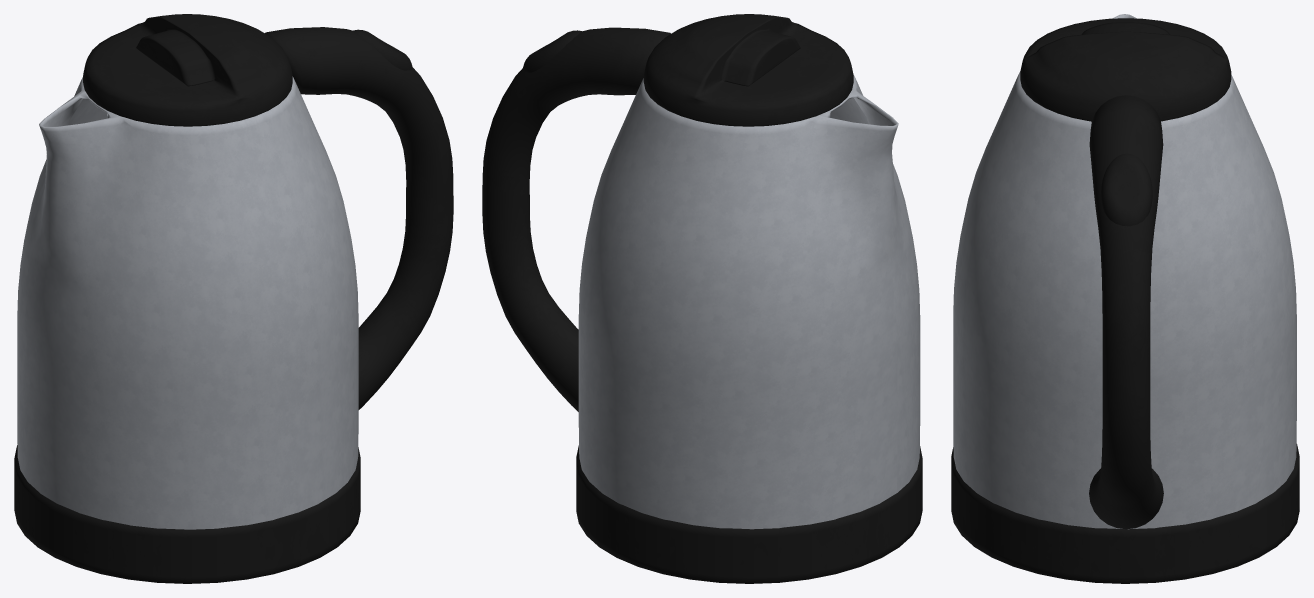
Rendered from czajnik_elektrycznyelectric_kettle.glb.
3 renders of one model, left to right at view 1: azimuth 30°, elevation 25°; view 2: azimuth 150°, elevation 25°; view 3: azimuth 270°, elevation 25°, orthographic.
Parts seen in each view (by area): view 1: Cylinder001, Cylinder003, Cylinder004, Cylinder002, Sphere001; view 2: Cylinder001, Cylinder003, Cylinder004, Cylinder002, Sphere001; view 3: Cylinder001, Cylinder003, Cylinder004, Cylinder002, Sphere001.
Boxes of the visible parts, x1=… form: Cylinder001: x1=17, y1=76, x2=358, y2=529; Cylinder003: x1=265, y1=27, x2=453, y2=409; Cylinder004: x1=14, y1=445, x2=360, y2=583; Cylinder002: x1=83, y1=14, x2=292, y2=126; Sphere001: x1=353, y1=29, x2=412, y2=70; Cylinder001: x1=578, y1=74, x2=920, y2=529; Cylinder003: x1=482, y1=27, x2=670, y2=411; Cylinder004: x1=576, y1=445, x2=922, y2=583; Cylinder002: x1=643, y1=14, x2=853, y2=126; Sphere001: x1=523, y1=30, x2=582, y2=72; Cylinder001: x1=953, y1=14, x2=1296, y2=529; Cylinder003: x1=1089, y1=95, x2=1163, y2=529; Cylinder004: x1=951, y1=444, x2=1299, y2=583; Cylinder002: x1=1020, y1=18, x2=1231, y2=121; Sphere001: x1=1101, y1=153, x2=1152, y2=226.
Bounding box in the file's own units: 37.24 × 41.61 × 27.02.
Materials: 2 (2 with a texture image).
